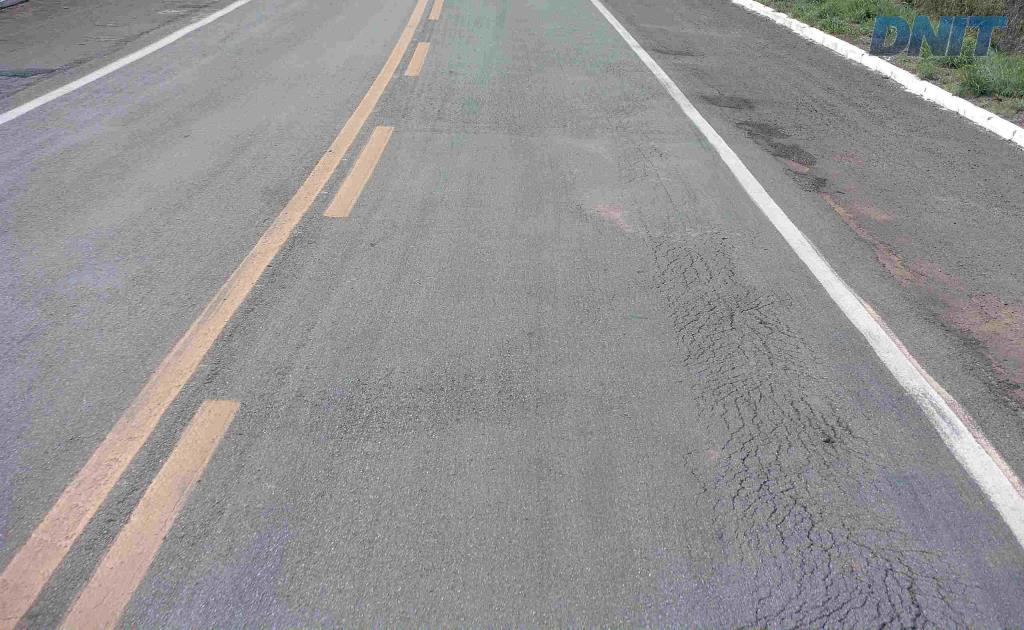crack: (897, 557, 928, 629)
